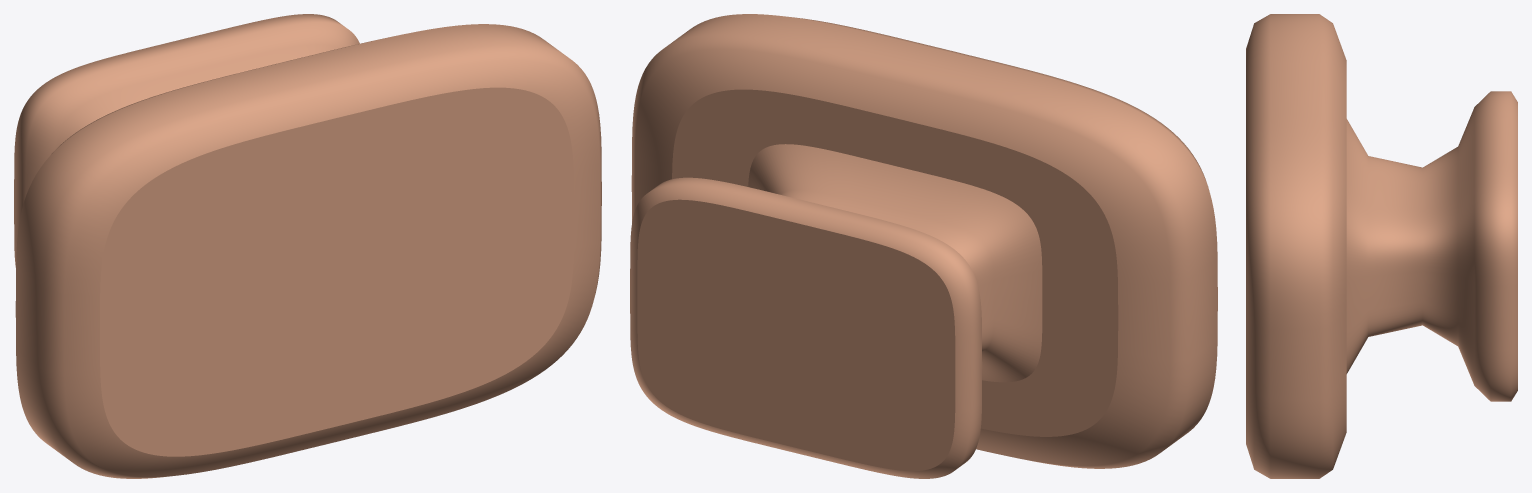
The model's file is eurofit-k-417sb-v2.glb.
The picture shows the model from 3 angles, left to right: view 1: azimuth 30°, elevation 25°; view 2: azimuth 150°, elevation 25°; view 3: azimuth 270°, elevation 25°; orthographic projection. The views are drawn at different scales.
Parts seen in each view (by area): view 1: K417 rounded rectangular cap, K417 rounded pedestal; view 2: K417 rounded rectangular cap, K417 rounded pedestal; view 3: K417 rounded rectangular cap, K417 rounded pedestal.
Boxes of the visible parts, x1,y1,x2,y2 form: K417 rounded rectangular cap: (15,24,601,478); K417 rounded pedestal: (14,14,359,267); K417 rounded rectangular cap: (631,14,1217,468); K417 rounded pedestal: (630,144,1042,478); K417 rounded rectangular cap: (1246,14,1346,478); K417 rounded pedestal: (1346,91,1517,401).
Size of the model in its own units: 0.037 by 0.023 by 0.018.
